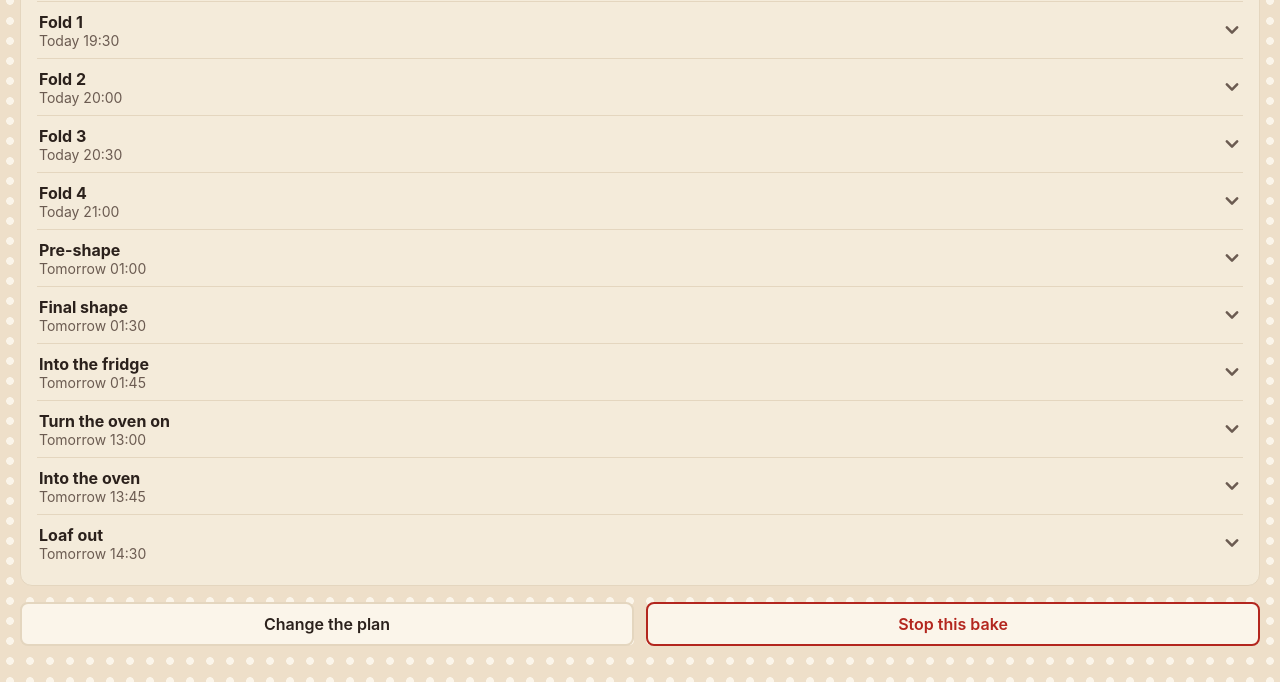
Test: live view › locks the feed ratio once you have fed, but not the fridge
The width and height of the screenshot is (1280, 682).
(page scrolled)
Step 1. Click the button "Change the plan" → (327, 624), box [20,602,634,646]
(page scrolled)
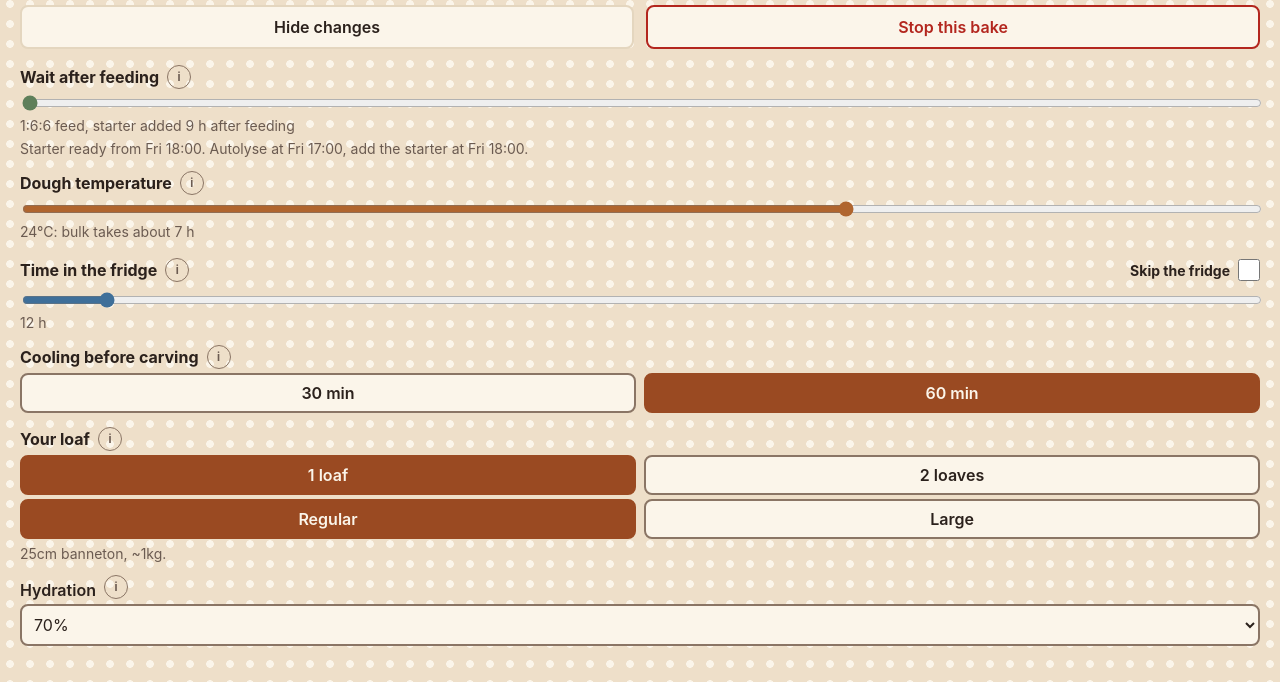
Now the slider labelled "Time in the fridge" is enabled, box [22,292,1262,308]
